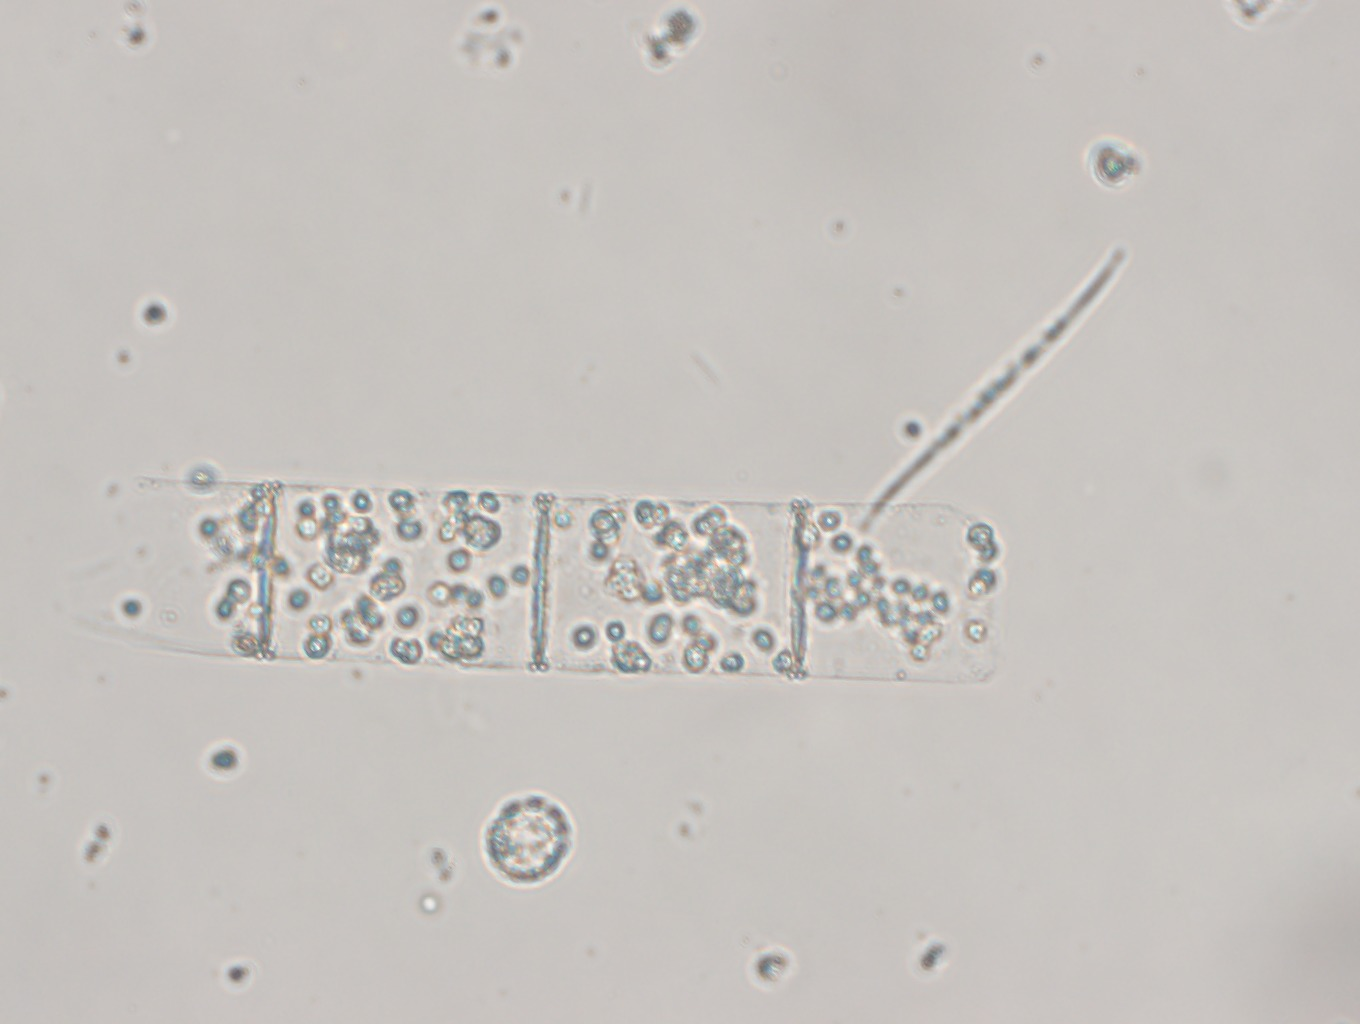guinardia flaccida: (78, 446, 1020, 713)
pleurosigma pelagicum: (834, 231, 1155, 550)
